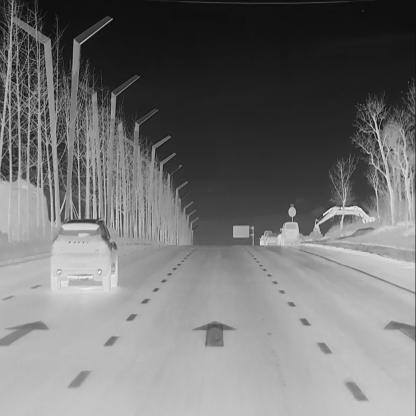car: (51, 218, 120, 292), (278, 221, 300, 245), (265, 231, 278, 247), (263, 229, 273, 246), (258, 234, 264, 247)
